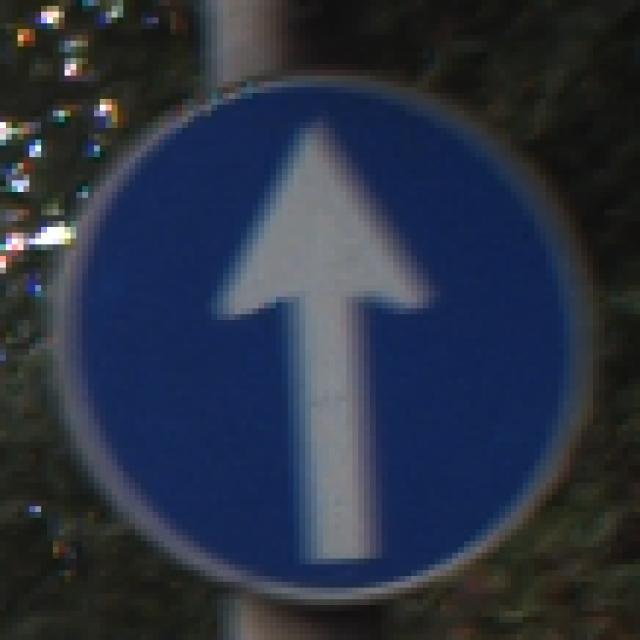compulsary ahead: (60, 78, 594, 599)
